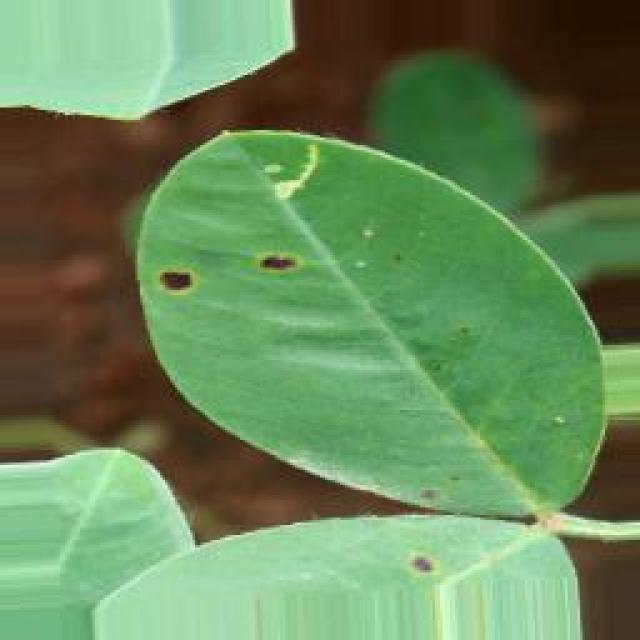Early_leaf_spot: (220, 232, 326, 300), (392, 523, 465, 598), (134, 243, 200, 322)
